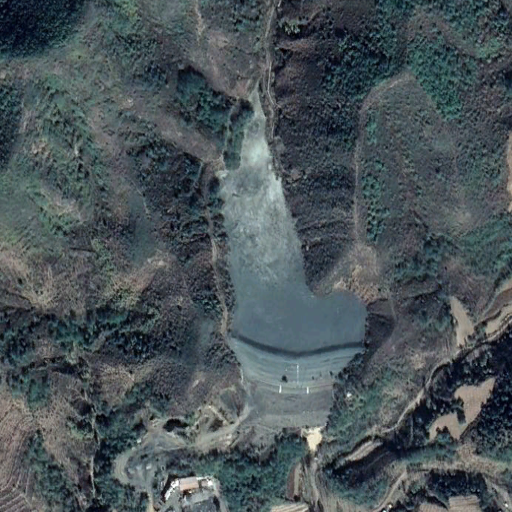tp: (225, 91, 371, 391)
